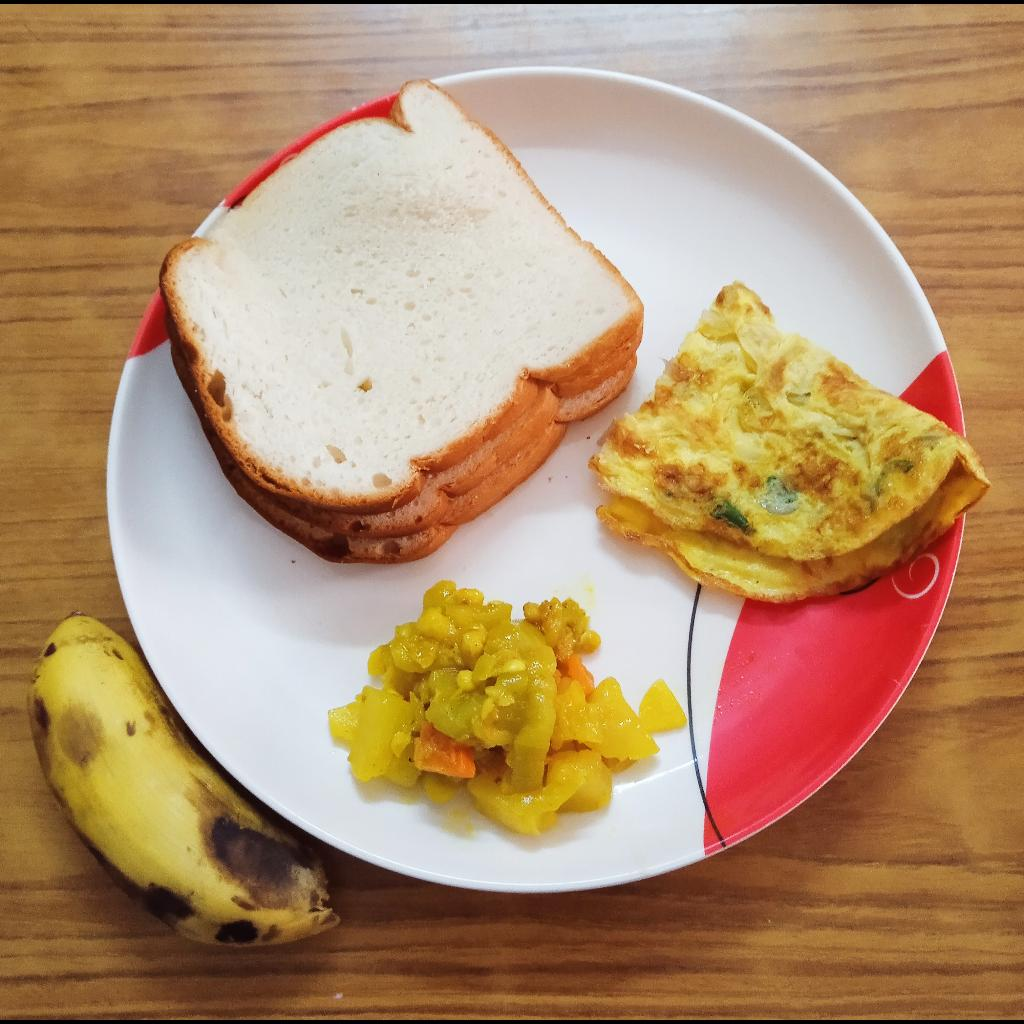banana: (30, 613, 339, 951)
bread: (161, 81, 641, 563)
egg: (589, 282, 991, 607)
vegetable: (328, 584, 693, 835)
